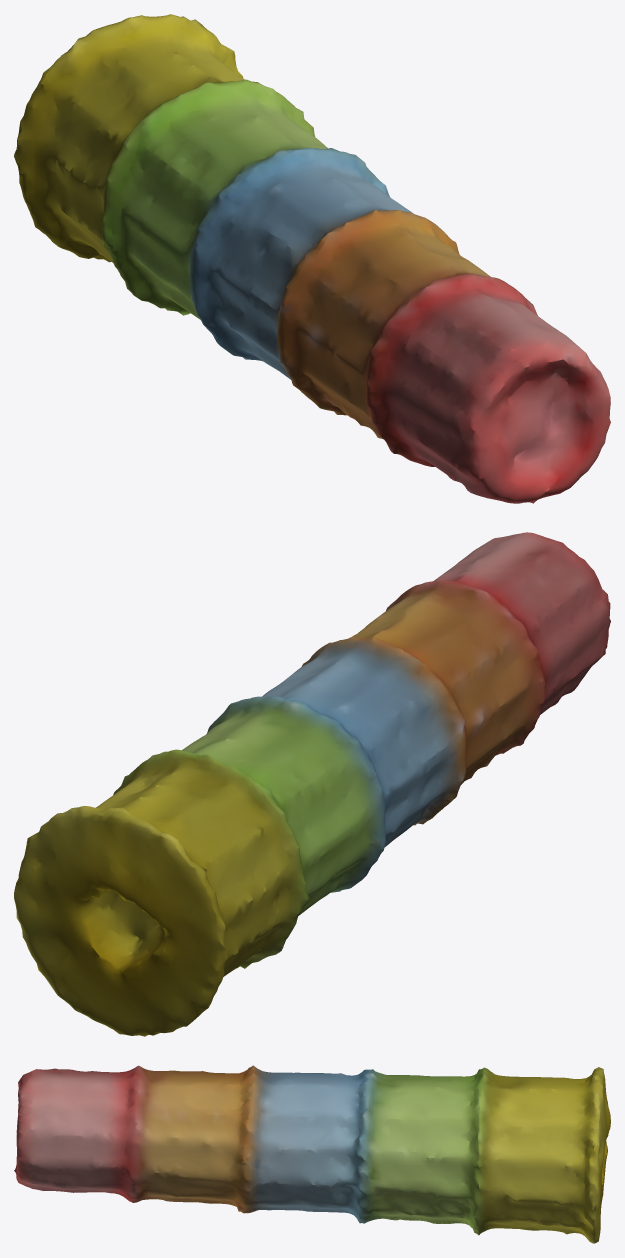
The model's file is stucking_cups.glb.
3 views of the same model, one above another, from view 1: azimuth 30°, elevation 25°; view 2: azimuth 150°, elevation 25°; view 3: azimuth 270°, elevation 25° (orthographic). The views are drawn at different scales.
Bounding box in the file's own units: 0.2931 × 0.2939 × 0.9956.
